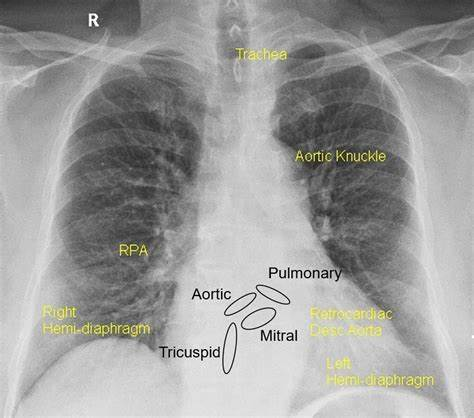telestration: (322, 356, 435, 389), (40, 305, 149, 338), (308, 307, 391, 336), (295, 147, 386, 165), (265, 265, 345, 281), (222, 320, 239, 374), (254, 281, 292, 305), (159, 343, 215, 359), (221, 290, 254, 317), (239, 307, 277, 330), (232, 47, 286, 63), (258, 327, 295, 342), (193, 288, 232, 301), (114, 245, 150, 258)
